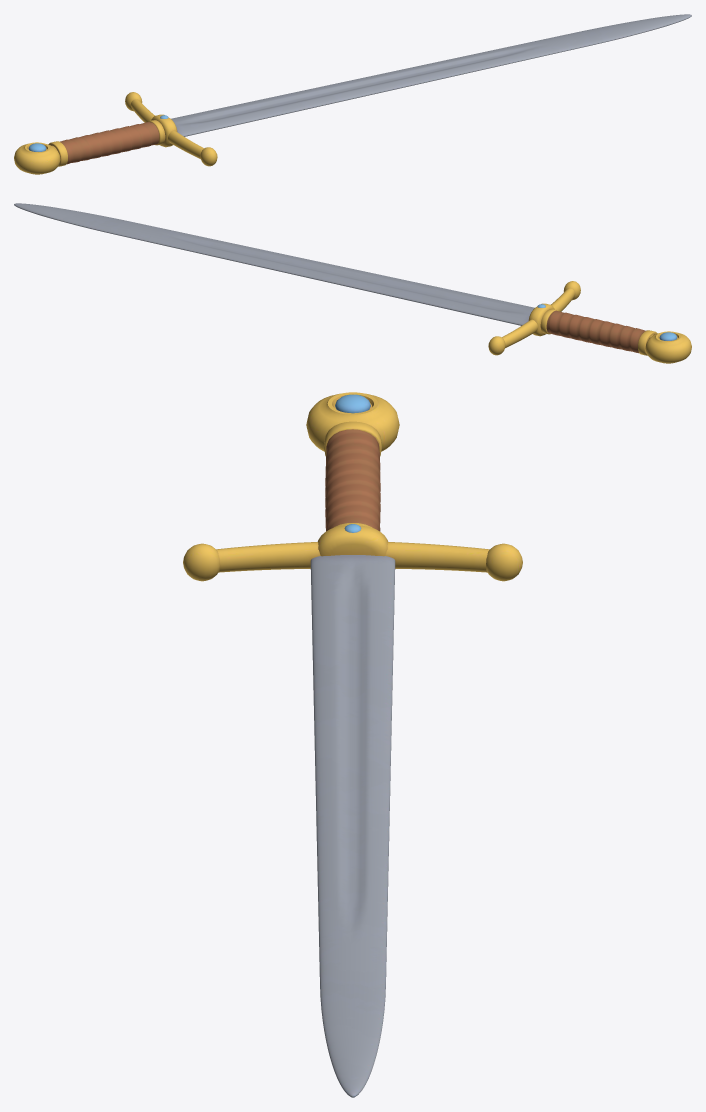
The model's file is iron-sword.fbx.
3 views of the same model, one above another, from view 1: azimuth 30°, elevation 25°; view 2: azimuth 150°, elevation 25°; view 3: azimuth 270°, elevation 25° (orthographic). The views are drawn at different scales.
Parts seen in each view (by area): view 1: iron-sword_body; view 2: iron-sword_body; view 3: iron-sword_body.
Part boxes in pixels (box(x1,y1,x2,y2)): iron-sword_body: box(14, 14, 691, 174); iron-sword_body: box(14, 203, 691, 363); iron-sword_body: box(183, 392, 522, 1097).
Size of the model in its own units: 0.9002 by 0.0407 by 0.1964.
Materials: 1 (1 with a texture image).
